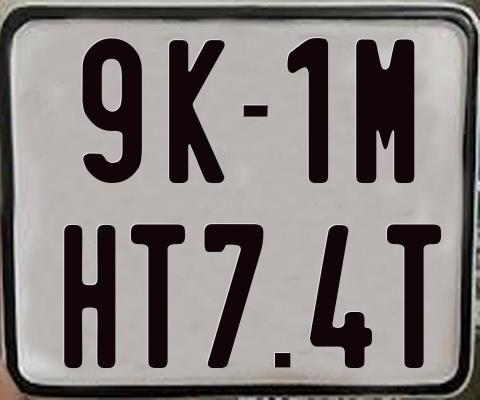1: (286, 37, 329, 184)
4: (308, 225, 371, 371)
7: (204, 223, 269, 368)
9: (80, 38, 145, 186)
H: (61, 222, 115, 366)
K: (169, 37, 227, 182)
M: (356, 36, 417, 183)
T: (130, 222, 190, 371), (387, 223, 442, 372)
